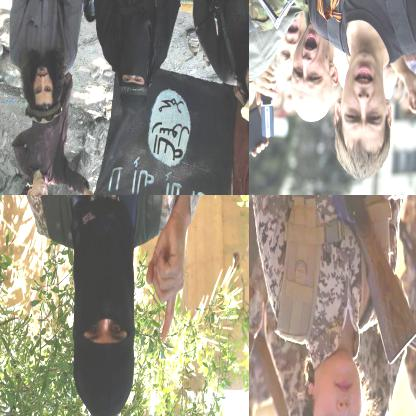rifle: (318, 195, 415, 368)
